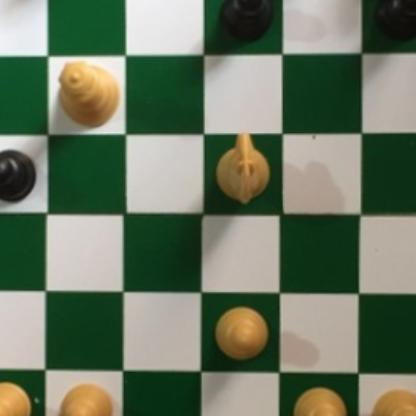black-pawn: (216, 0, 273, 44), (0, 146, 36, 203), (373, 0, 416, 46)
white-knight: (213, 129, 272, 208)
white-pawn: (211, 305, 270, 364), (287, 384, 349, 416), (59, 381, 114, 416), (367, 386, 416, 416), (0, 380, 35, 416)
white-queen: (55, 54, 122, 122)
